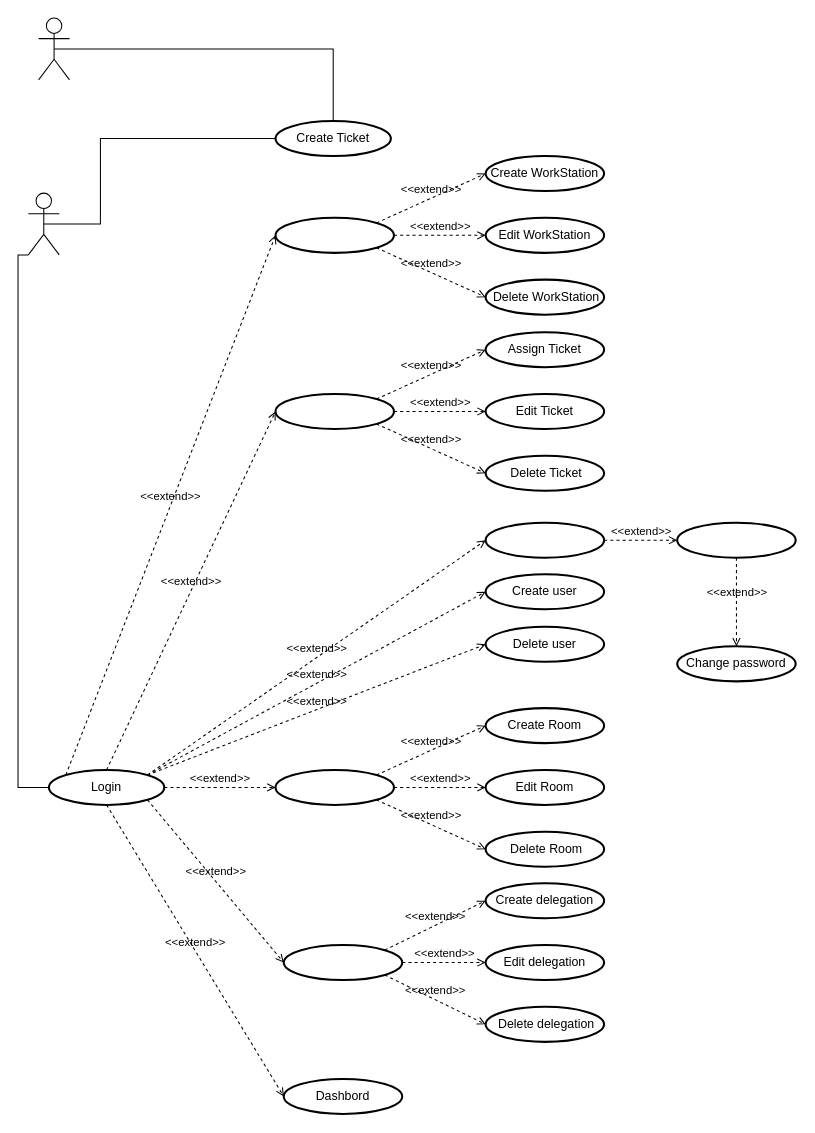
The diagram is 815 pixels wide and 1133 high, and some of its shapes have lost their labels. Here are the shapes that lost their labels. From the top down, the centre of each, then its label:
the point at 54,48: Guest
the point at 43,223: Admin
the point at 334,234: View workstation
the point at 334,411: View Ticket
the point at 544,539: View user
the point at 736,539: Edit user
the point at 334,786: View Room
the point at 342,962: View Delegation
